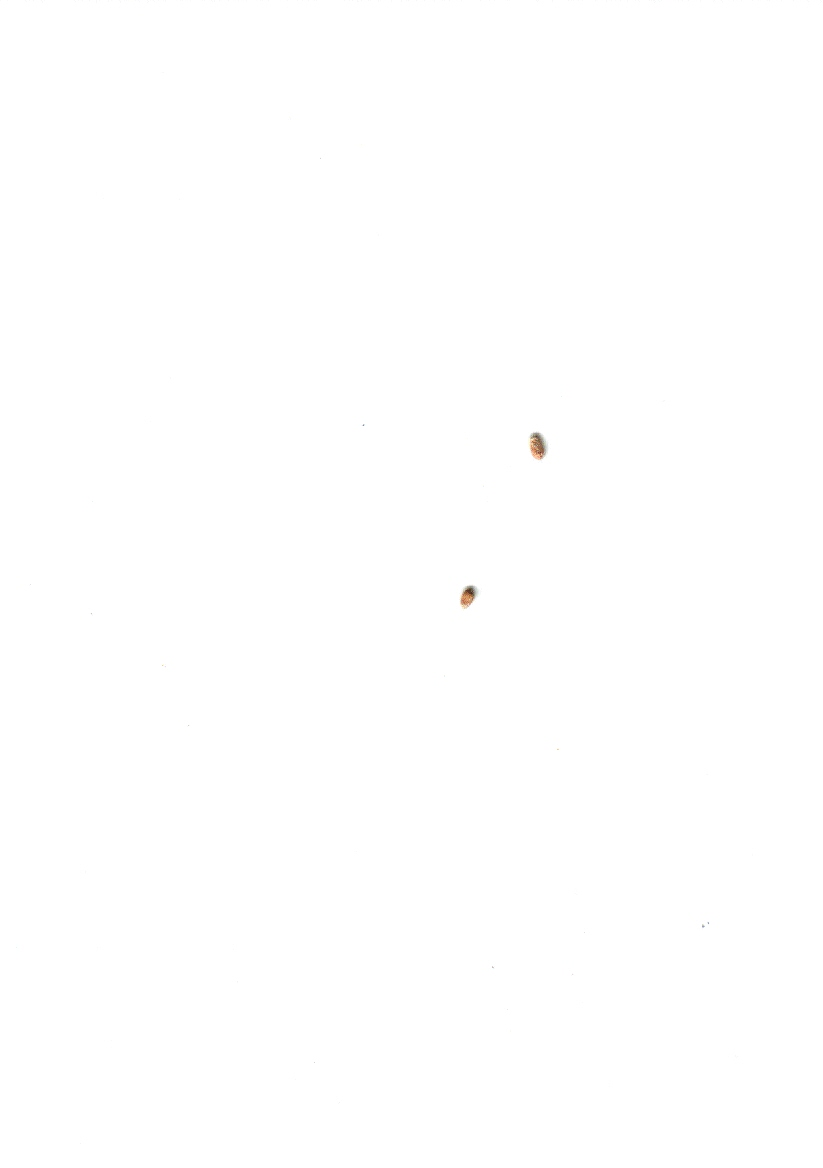grains: (512, 419, 564, 467), (447, 575, 486, 616)
